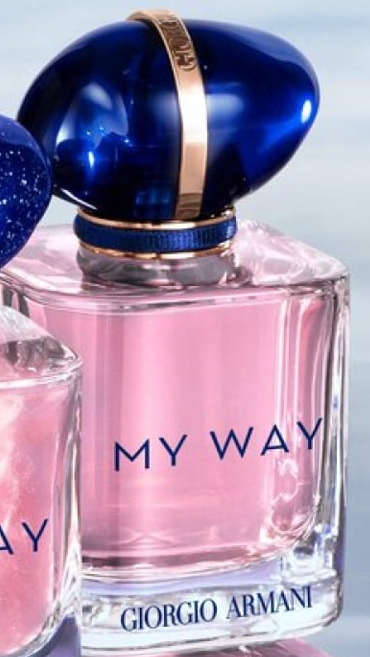armani_my_way_floral: (17, 2, 345, 643), (1, 96, 82, 652)
